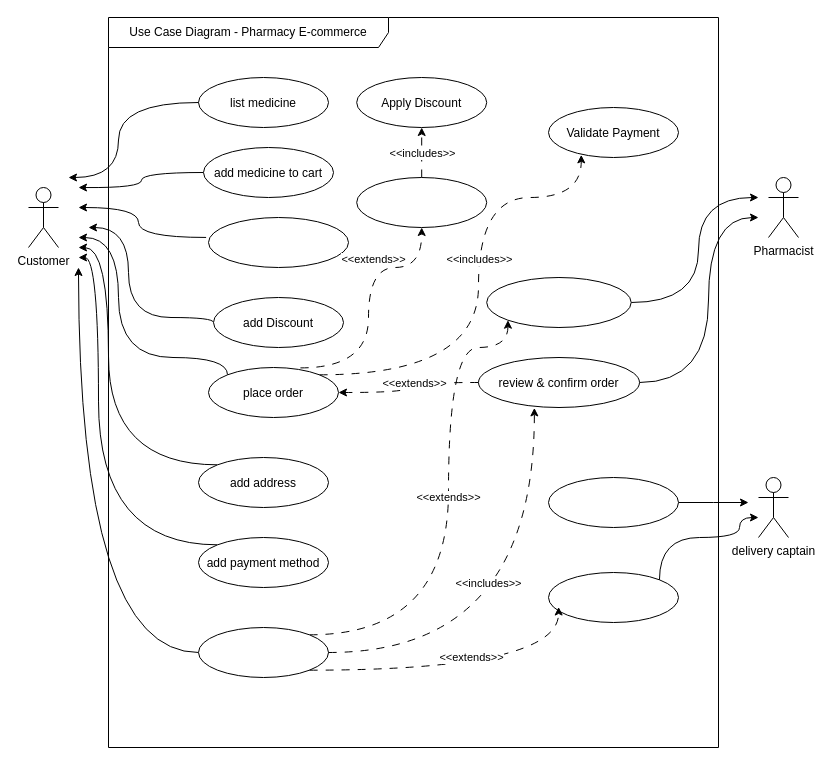
Image size: 832x765. Some labels were removed from this diagram. The centre of each missing label's shape, as x and y in pixels:
add medicine to wishlist: (278,242)
check Discount: (421,202)
confirm drop-off: (613,597)
get delivery info: (613,502)
prepare order: (558,302)
track order status: (263,652)
